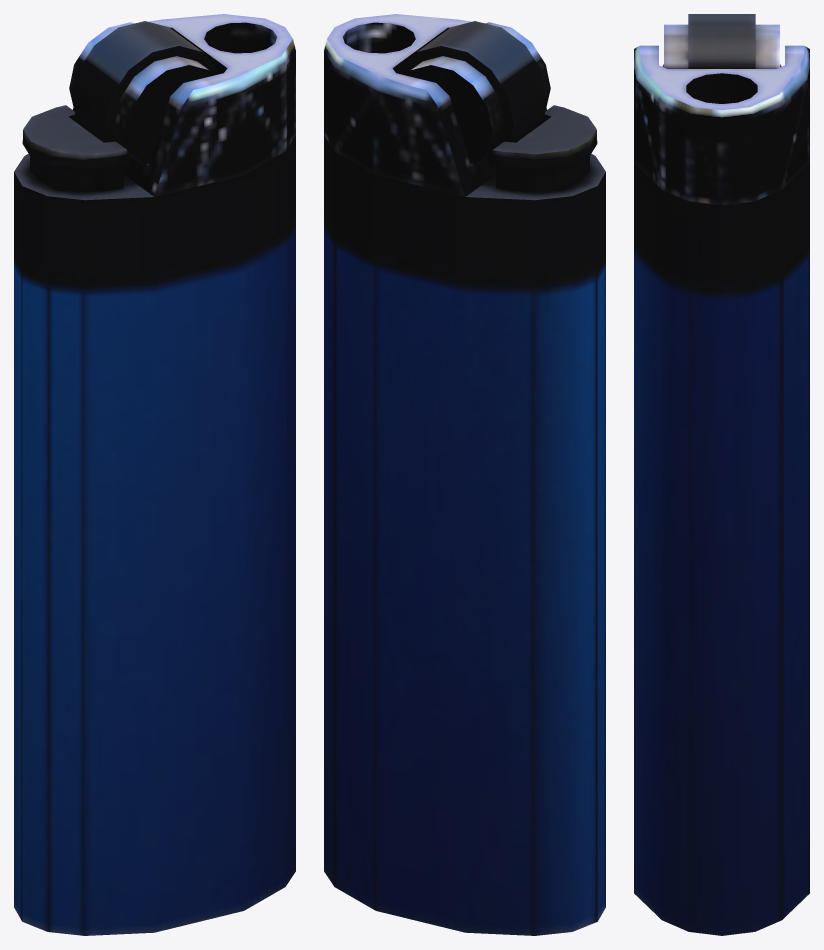
File: fireliter.glb
3 renders of one model, left to right at view 1: azimuth 30°, elevation 25°; view 2: azimuth 150°, elevation 25°; view 3: azimuth 270°, elevation 25°, orthographic.
Visible parts, largest first — view 1: lighter; view 2: lighter; view 3: lighter.
Boxes of the visible parts, bbox=[...] form: lighter: bbox=[14, 14, 295, 935]; lighter: bbox=[324, 14, 605, 935]; lighter: bbox=[634, 14, 809, 935].
Size of the model in its own units: 0.013 by 0.04 by 0.00752.
Materials: 1 (1 with a texture image).
